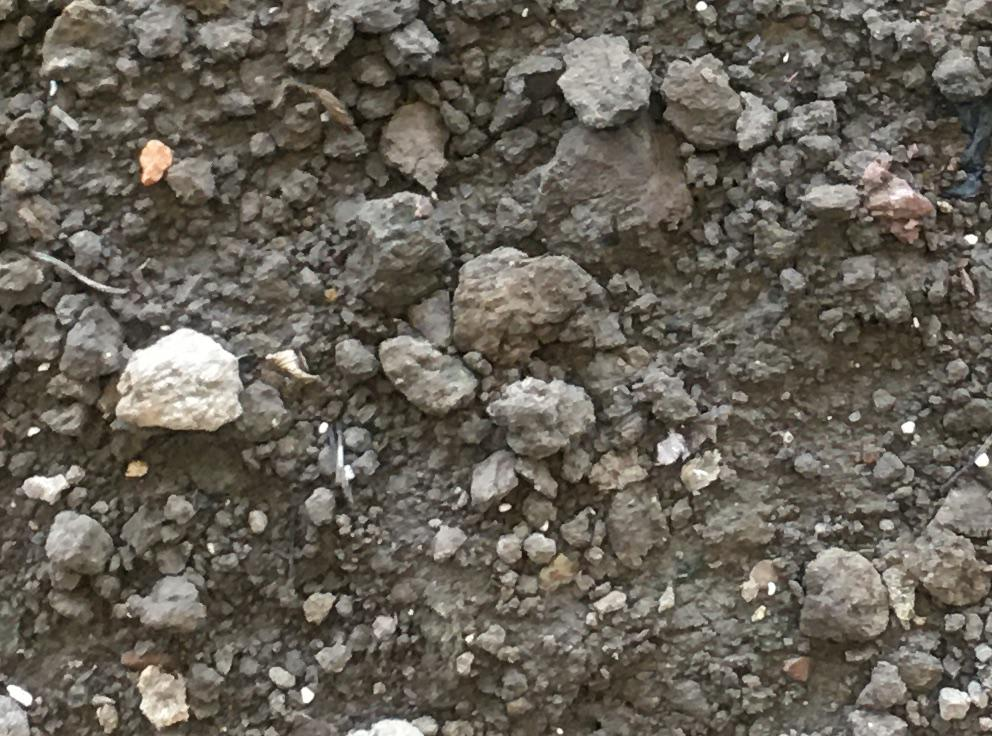block: (454, 245, 600, 360), (333, 186, 461, 313), (109, 323, 248, 437), (557, 26, 653, 130), (489, 376, 599, 460), (662, 55, 758, 150), (801, 545, 887, 643)
